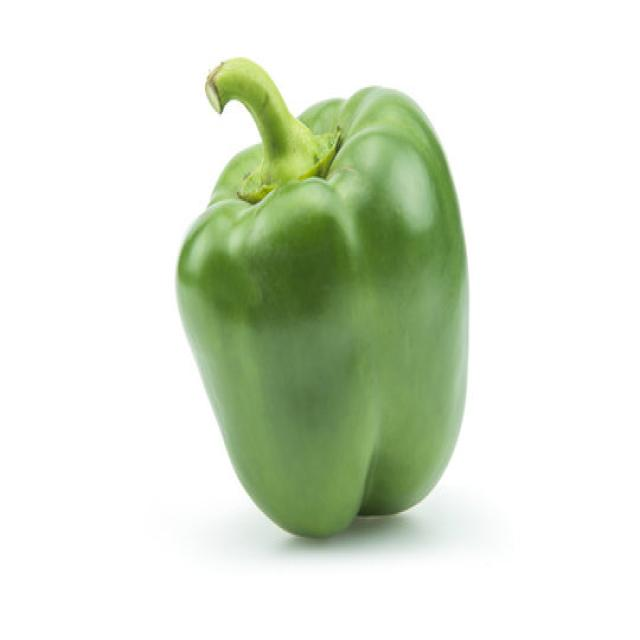Bell Pepper: (175, 53, 470, 539)
